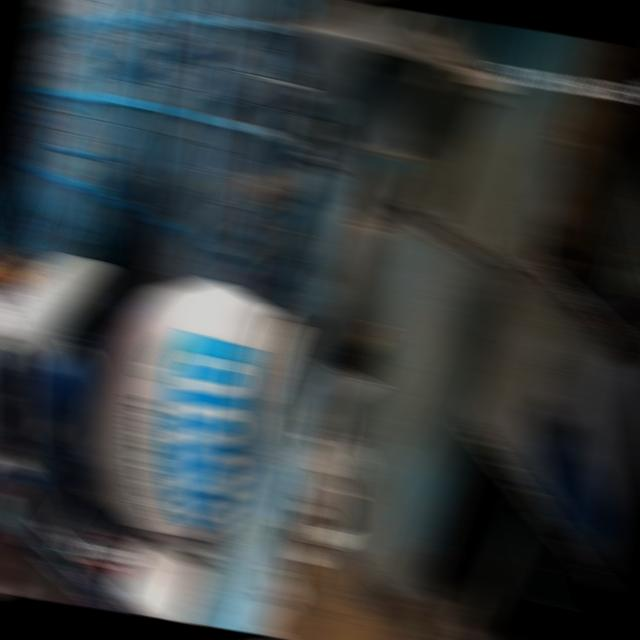cement_mixer_truck: (0, 255, 391, 640)
swing_chute: (289, 123, 428, 362)
